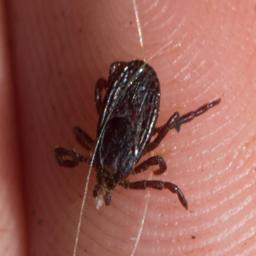Rhipicephalus sanguineus: (53, 59, 222, 210)
